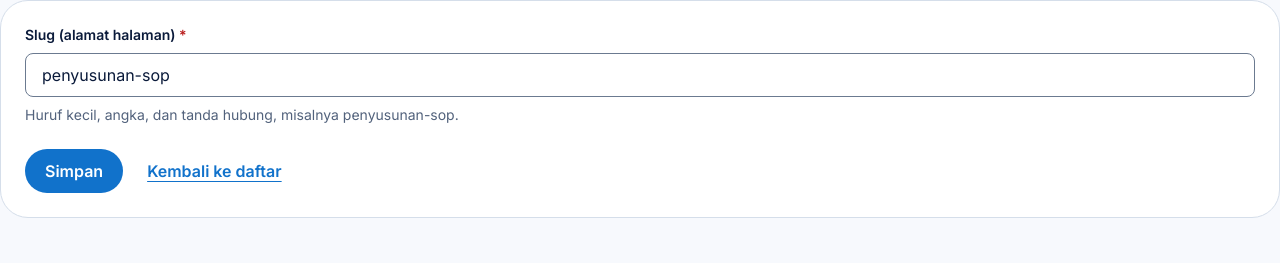
Test: slug field › warns that the old URL becomes a 404 when the slug of a published item changes
Expected: the text "URL lama akan menjadi 404." is not shown
Type "-baru" into the field labelled "Slug (alamat halaman) *" at (640, 75), box [25, 53, 1255, 97]
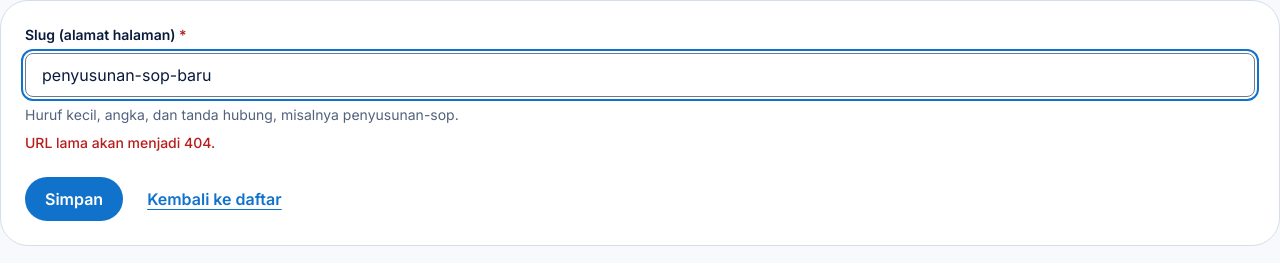
Result: the text "URL lama akan menjadi 404." is shown at [25, 134, 215, 151]
